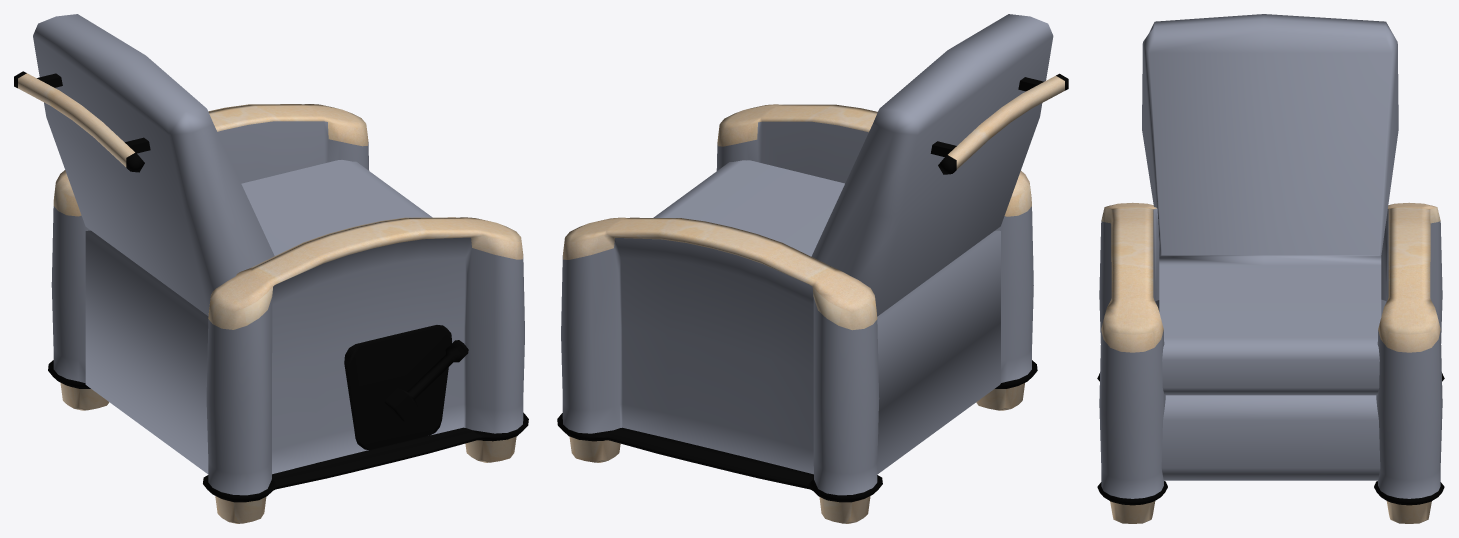
File: armchair.fbx
3 views of the same model, side by side, from view 1: azimuth 30°, elevation 25°; view 2: azimuth 150°, elevation 25°; view 3: azimuth 270°, elevation 25° (orthographic). The views are drawn at different scales.
Parts seen in each view (by area): view 1: seat, polySurface4, polySurface5, lever_mount, bar, lever; view 2: polySurface5, seat, polySurface4, bar; view 3: seat, polySurface4, polySurface5.
Part boxes in pixels (x1,y1,x2,y2): seat: (33,14,432,473); polySurface4: (203,217,528,523); polySurface5: (48,104,369,410); lever_mount: (344,325,451,449); bar: (14,71,144,172); lever: (384,340,468,421); polySurface5: (557,217,882,523); seat: (653,14,1053,474); polySurface4: (716,104,1037,410); bar: (938,73,1068,174); seat: (1142,14,1398,480); polySurface4: (1097,202,1167,523); polySurface5: (1374,202,1444,523).
Bounding box in the file's own units: 8.92 × 9.51 × 8.05.
Materials: 4 (1 with a texture image).
